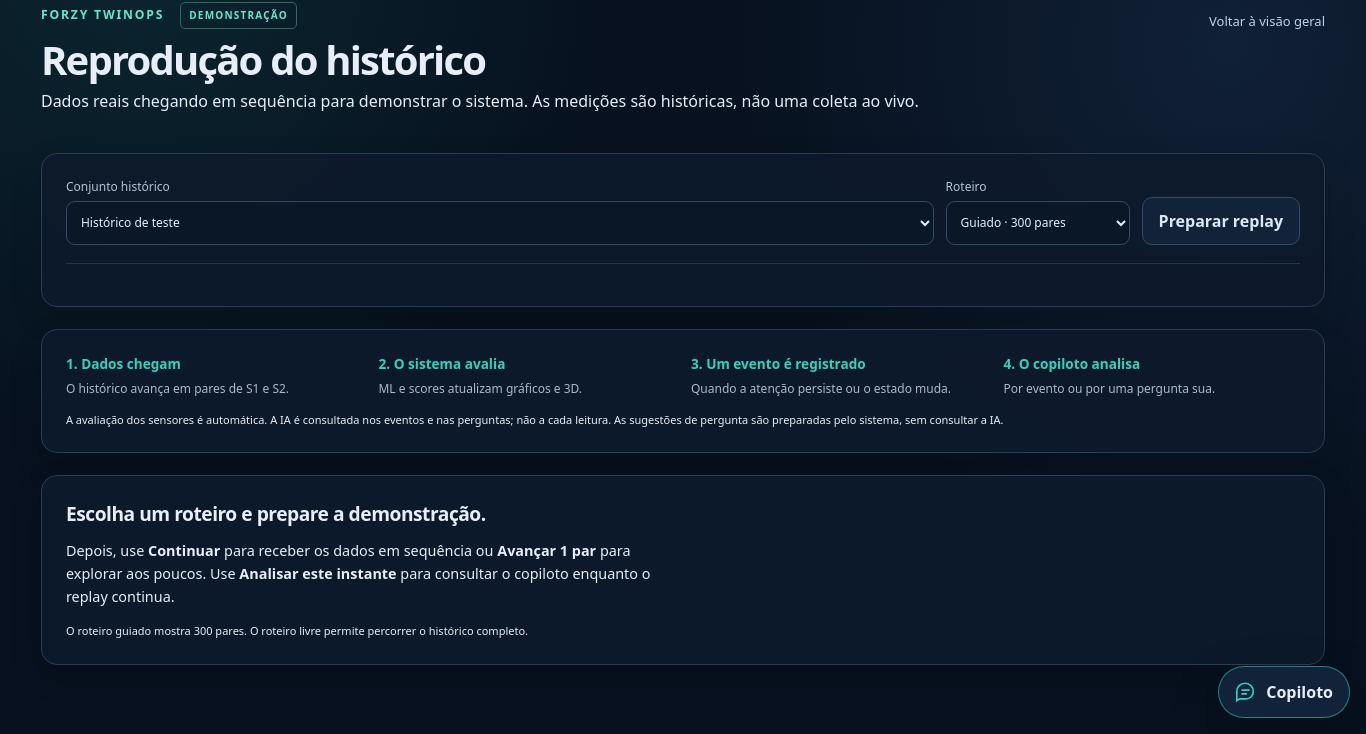
clears selected event and draft on a new generation, suppressing an obsolete manual completion
Click the button "Preparar replay". click: (1221,221)
box: top-left (1142, 197), bottom-right (1300, 245)
(page scrolled)
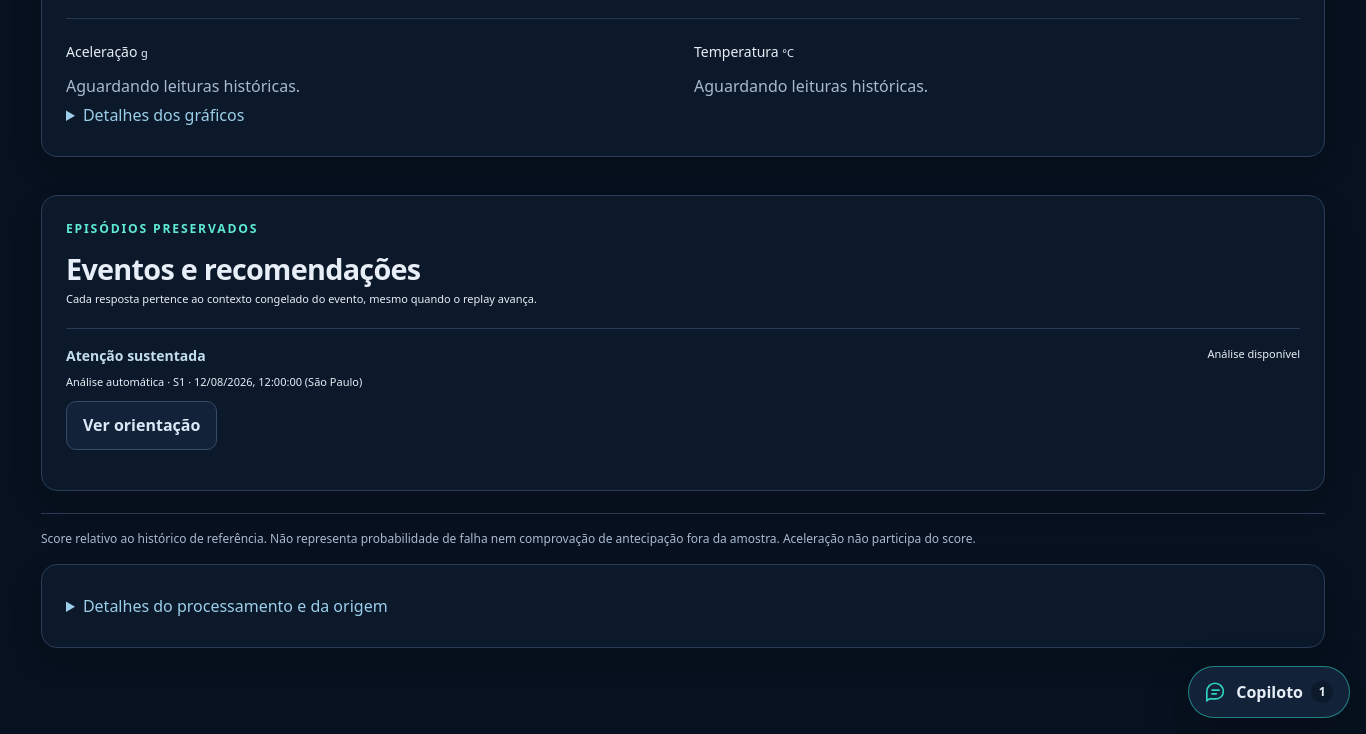
Click the button named "Ver orientação: Atenção sustentada". click: (142,425)
box: top-left (66, 401), bottom-right (217, 450)
(page scrolled)
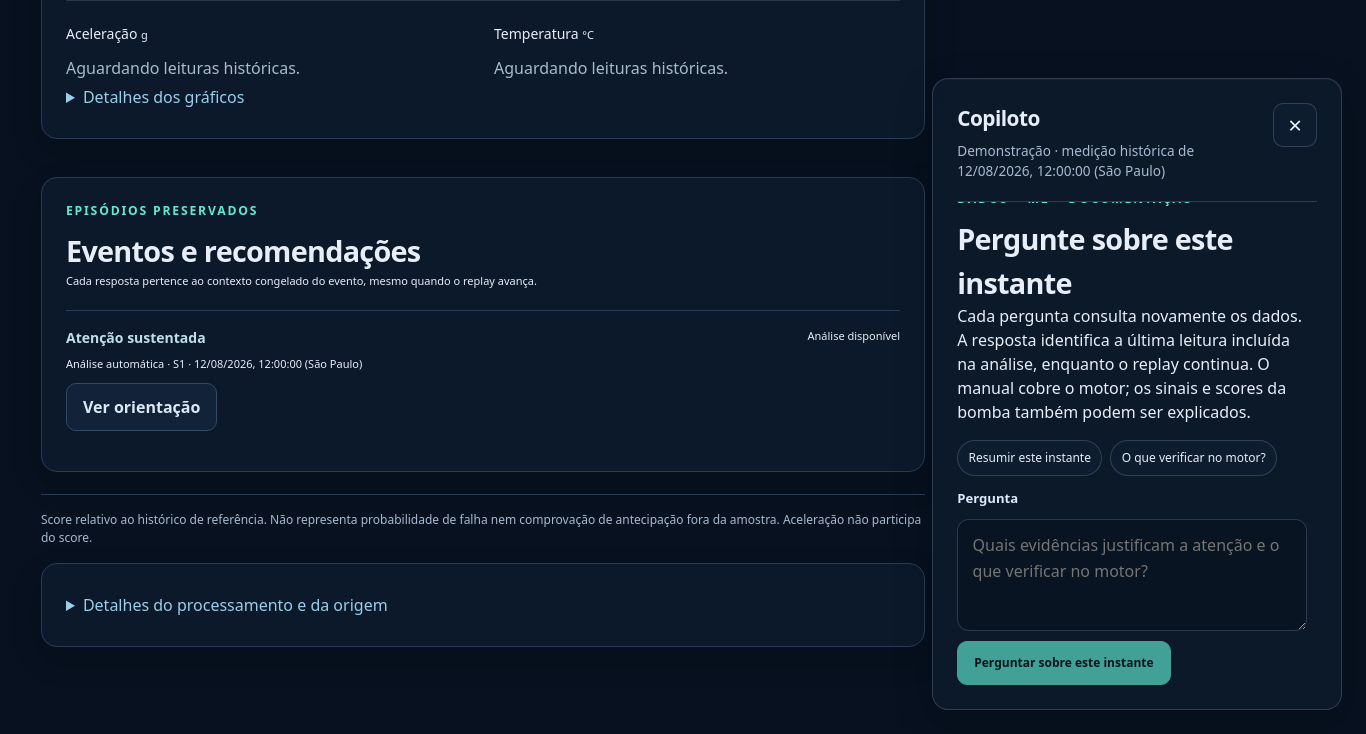
Replace the text in the text box labelled "Pergunta" with "Consulta da geração anterior". click: (1132,575)
box: top-left (957, 519), bottom-right (1307, 631)
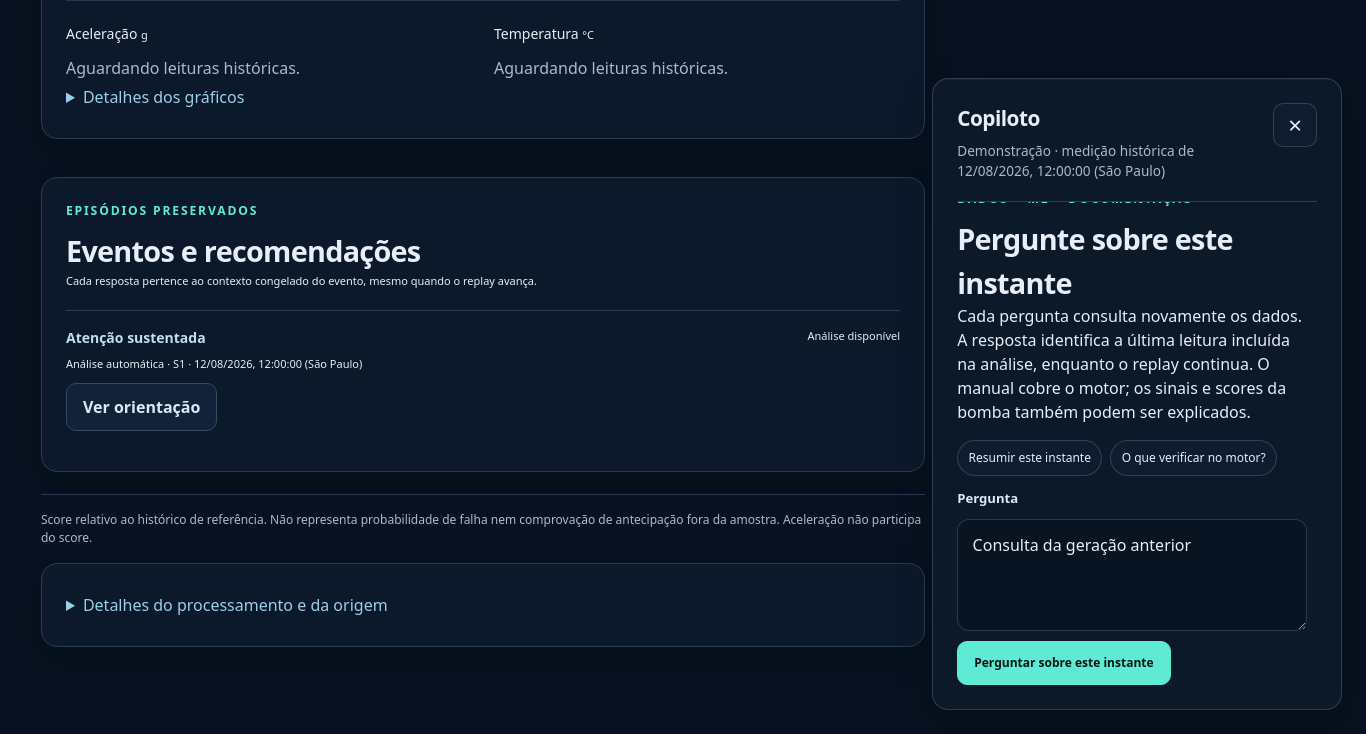
Submit the form named "Perguntar ao copiloto da demonstração", box top-left (957, 489), bottom-right (1307, 685)
(page scrolled)
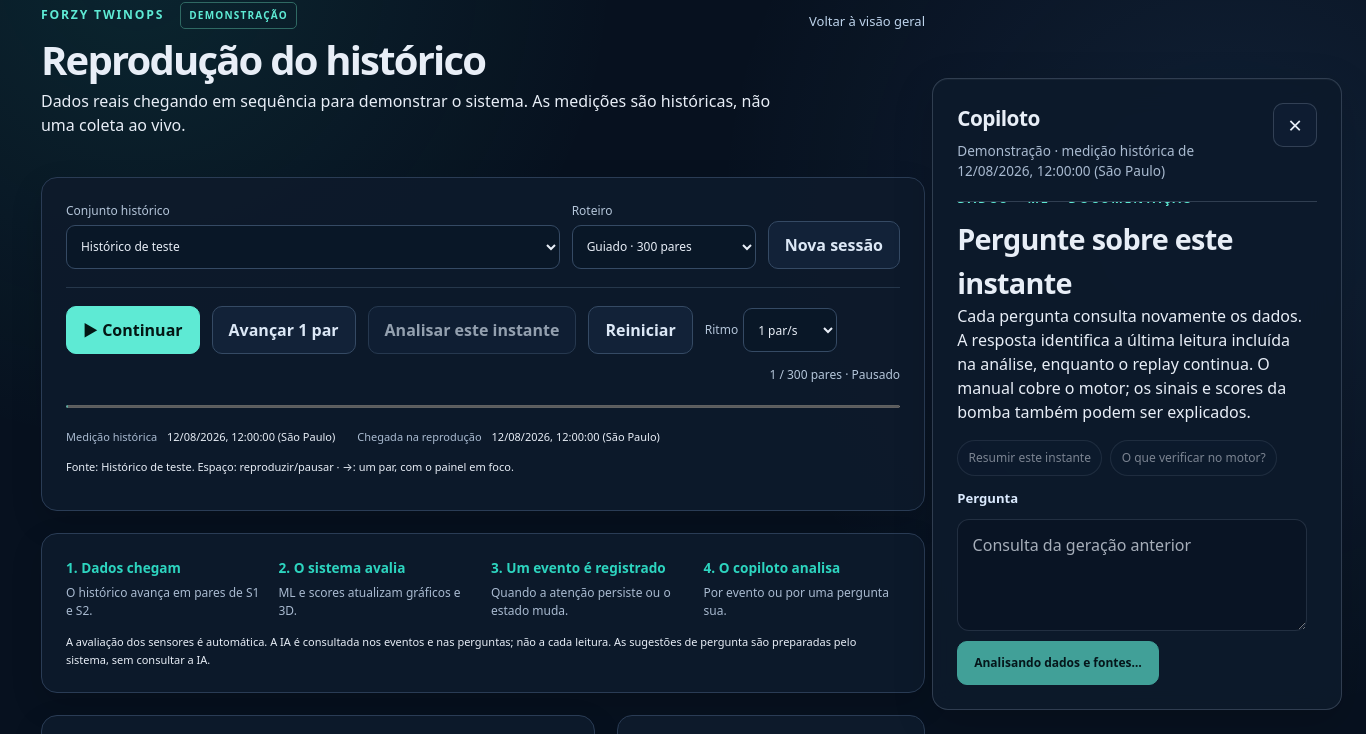
Click the button "Reiniciar". click: (641,330)
box: top-left (588, 306), bottom-right (693, 354)
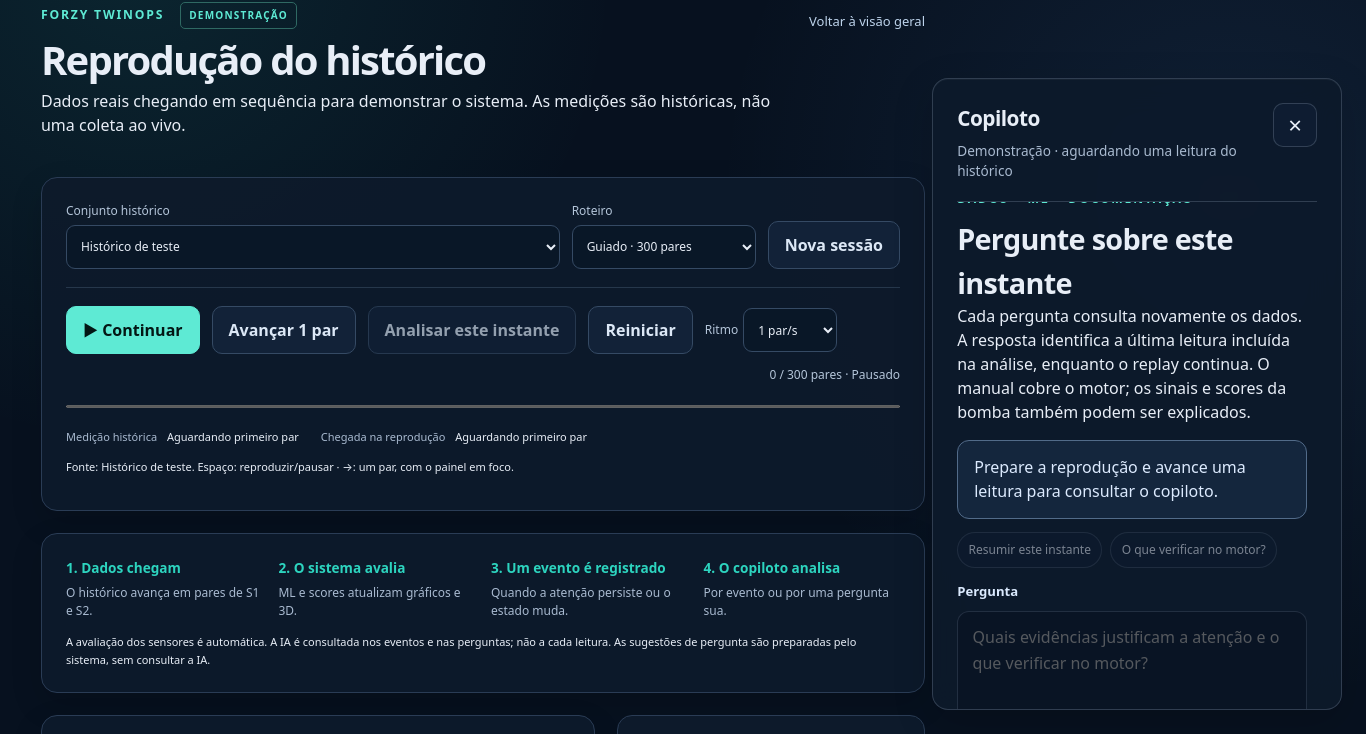
Check: the heading "Consulta da geração anterior" is not shown
Check: the text box labelled "Pergunta" is empty, box top-left (957, 611), bottom-right (1307, 709)
Check: the text "Prepare a reprodução e avance uma leitura para consultar o copiloto." is shown, box top-left (957, 440), bottom-right (1307, 519)
